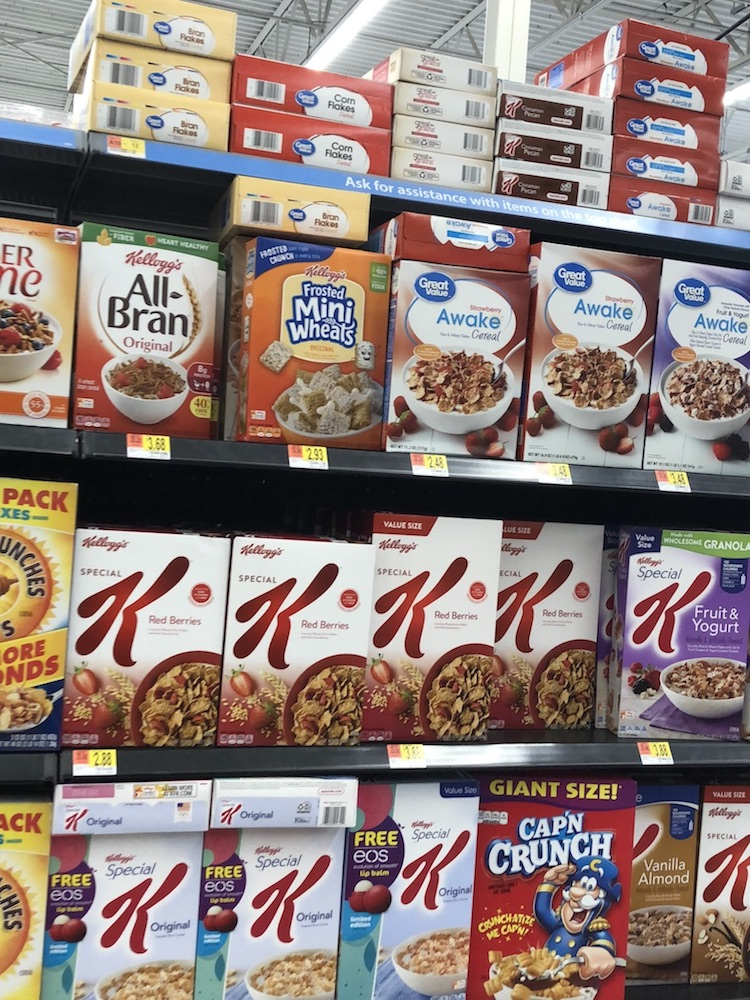Frosted Mini Original -9295869: (248, 236, 384, 443)
